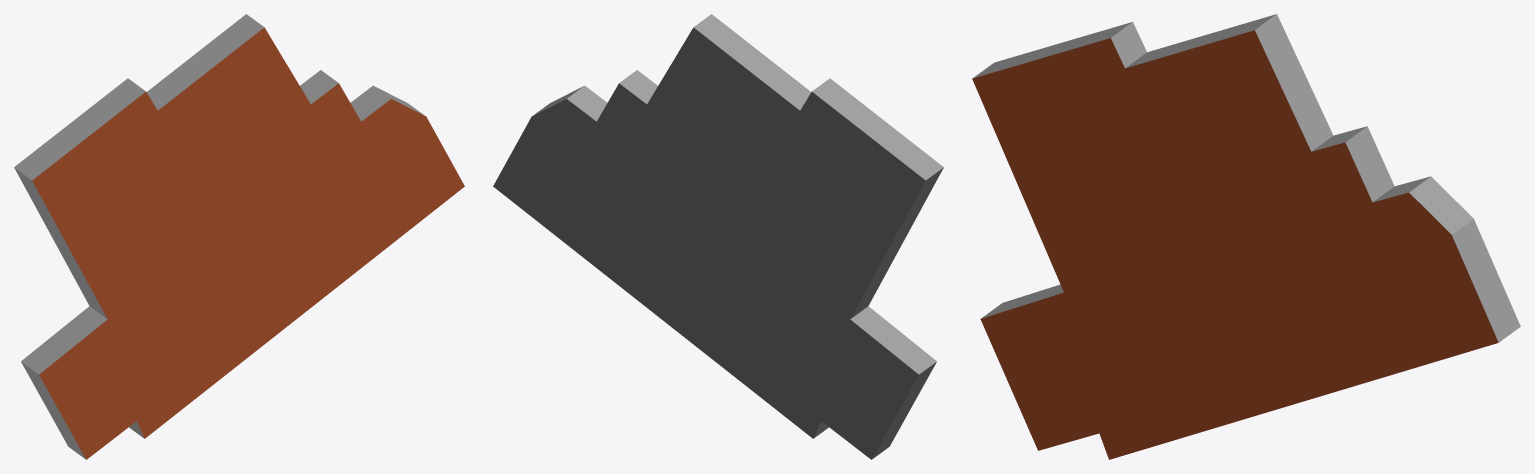
File: construction_0119_assumed_A_Grande_construcao_h6m.obj
3 renders of one model, left to right at view 1: azimuth 30°, elevation 25°; view 2: azimuth 150°, elevation 25°; view 3: azimuth 330°, elevation 25°, orthographic. The views are drawn at different scales.
Parts seen in each view (by area): view 1: construction_0119_assumed_A_Grande_construcao; view 2: construction_0119_assumed_A_Grande_construcao; view 3: construction_0119_assumed_A_Grande_construcao.
Boxes of the visible parts, box(x1,y1,x2,y2) form: construction_0119_assumed_A_Grande_construcao: box(14, 14, 464, 459); construction_0119_assumed_A_Grande_construcao: box(493, 14, 943, 459); construction_0119_assumed_A_Grande_construcao: box(972, 14, 1520, 459).
Size of the model in its own units: 82.54 by 70.93 by 6.
